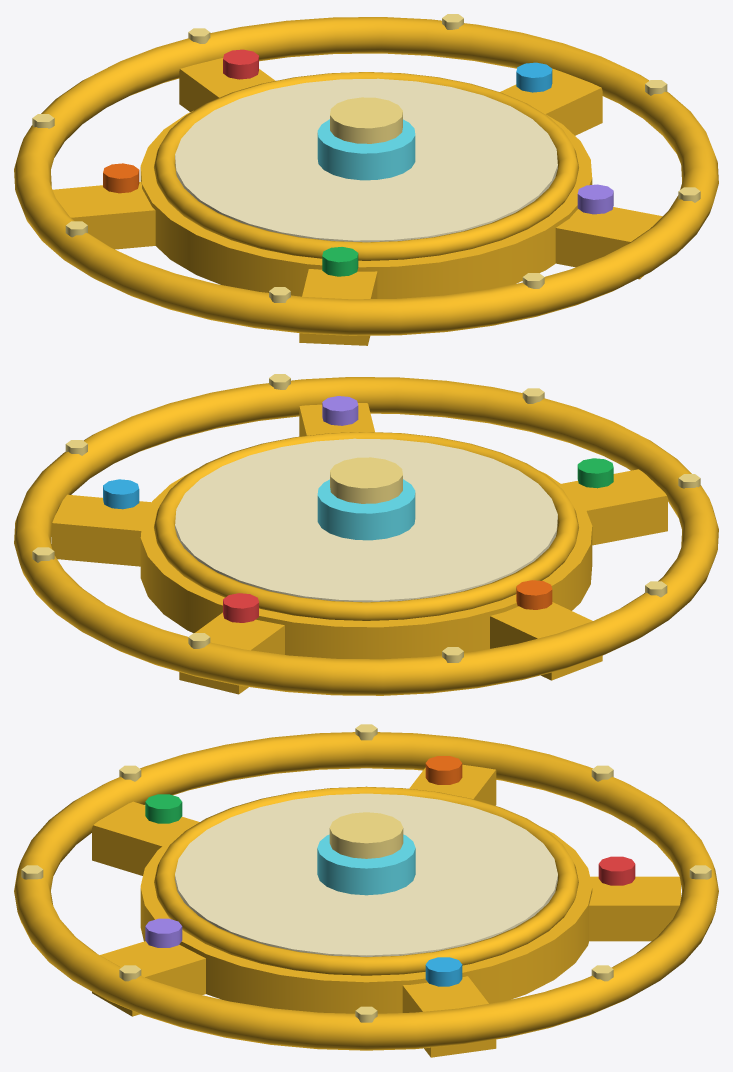
The model's file is toy_olympus_star_finale.glb.
3 renders of one model, top to bottom at view 1: azimuth 30°, elevation 25°; view 2: azimuth 150°, elevation 25°; view 3: azimuth 270°, elevation 25°, orthographic.
Visible parts, largest first — view 1: solid_9, solid_7, solid_1, solid_8, solid_6, solid_4, solid_10, solid_3, solid_11, solid_5, solid_2, solid_13 (+4 smaller); view 2: solid_9, solid_7, solid_1, solid_8, solid_3, solid_5, solid_10, solid_6, solid_11, solid_2, solid_4, solid_15 (+4 smaller); view 3: solid_9, solid_7, solid_1, solid_8, solid_2, solid_5, solid_10, solid_4, solid_11, solid_3, solid_6, solid_12 (+4 smaller).
Boxes of the visible parts, x1=… form: solid_9: x1=14, y1=17, x2=718, y2=335; solid_7: x1=175, y1=78, x2=557, y2=242; solid_1: x1=140, y1=108, x2=592, y2=298; solid_8: x1=154, y1=72, x2=578, y2=260; solid_6: x1=52, y1=181, x2=155, y2=249; solid_4: x1=555, y1=207, x2=662, y2=279; solid_10: x1=317, y1=119, x2=415, y2=180; solid_3: x1=500, y1=68, x2=602, y2=135; solid_11: x1=330, y1=97, x2=402, y2=143; solid_5: x1=299, y1=269, x2=377, y2=345; solid_2: x1=179, y1=58, x2=275, y2=111; solid_13: x1=516, y1=62, x2=552, y2=92; solid_9: x1=14, y1=377, x2=718, y2=695; solid_7: x1=175, y1=438, x2=557, y2=602; solid_1: x1=140, y1=468, x2=592, y2=659; solid_8: x1=154, y1=432, x2=578, y2=620; solid_3: x1=51, y1=494, x2=151, y2=566; solid_5: x1=561, y1=469, x2=667, y2=545; solid_10: x1=317, y1=479, x2=415, y2=540; solid_6: x1=490, y1=602, x2=602, y2=680; solid_11: x1=330, y1=457, x2=402, y2=503; solid_2: x1=179, y1=612, x2=284, y2=694; solid_4: x1=299, y1=403, x2=374, y2=436; solid_15: x1=577, y1=458, x2=613, y2=488; solid_9: x1=14, y1=732, x2=718, y2=1050; solid_7: x1=175, y1=793, x2=557, y2=956; solid_1: x1=140, y1=827, x2=592, y2=1013; solid_8: x1=154, y1=786, x2=578, y2=975; solid_2: x1=589, y1=876, x2=680, y2=941; solid_5: x1=92, y1=801, x2=199, y2=875; solid_10: x1=317, y1=834, x2=415, y2=895; solid_4: x1=92, y1=941, x2=205, y2=1016; solid_11: x1=329, y1=812, x2=403, y2=858; solid_3: x1=402, y1=976, x2=496, y2=1057; solid_6: x1=409, y1=764, x2=496, y2=805; solid_12: x1=598, y1=856, x2=635, y2=885.
Bounding box in the file's own units: 5.74 × 0.89 × 5.74.
